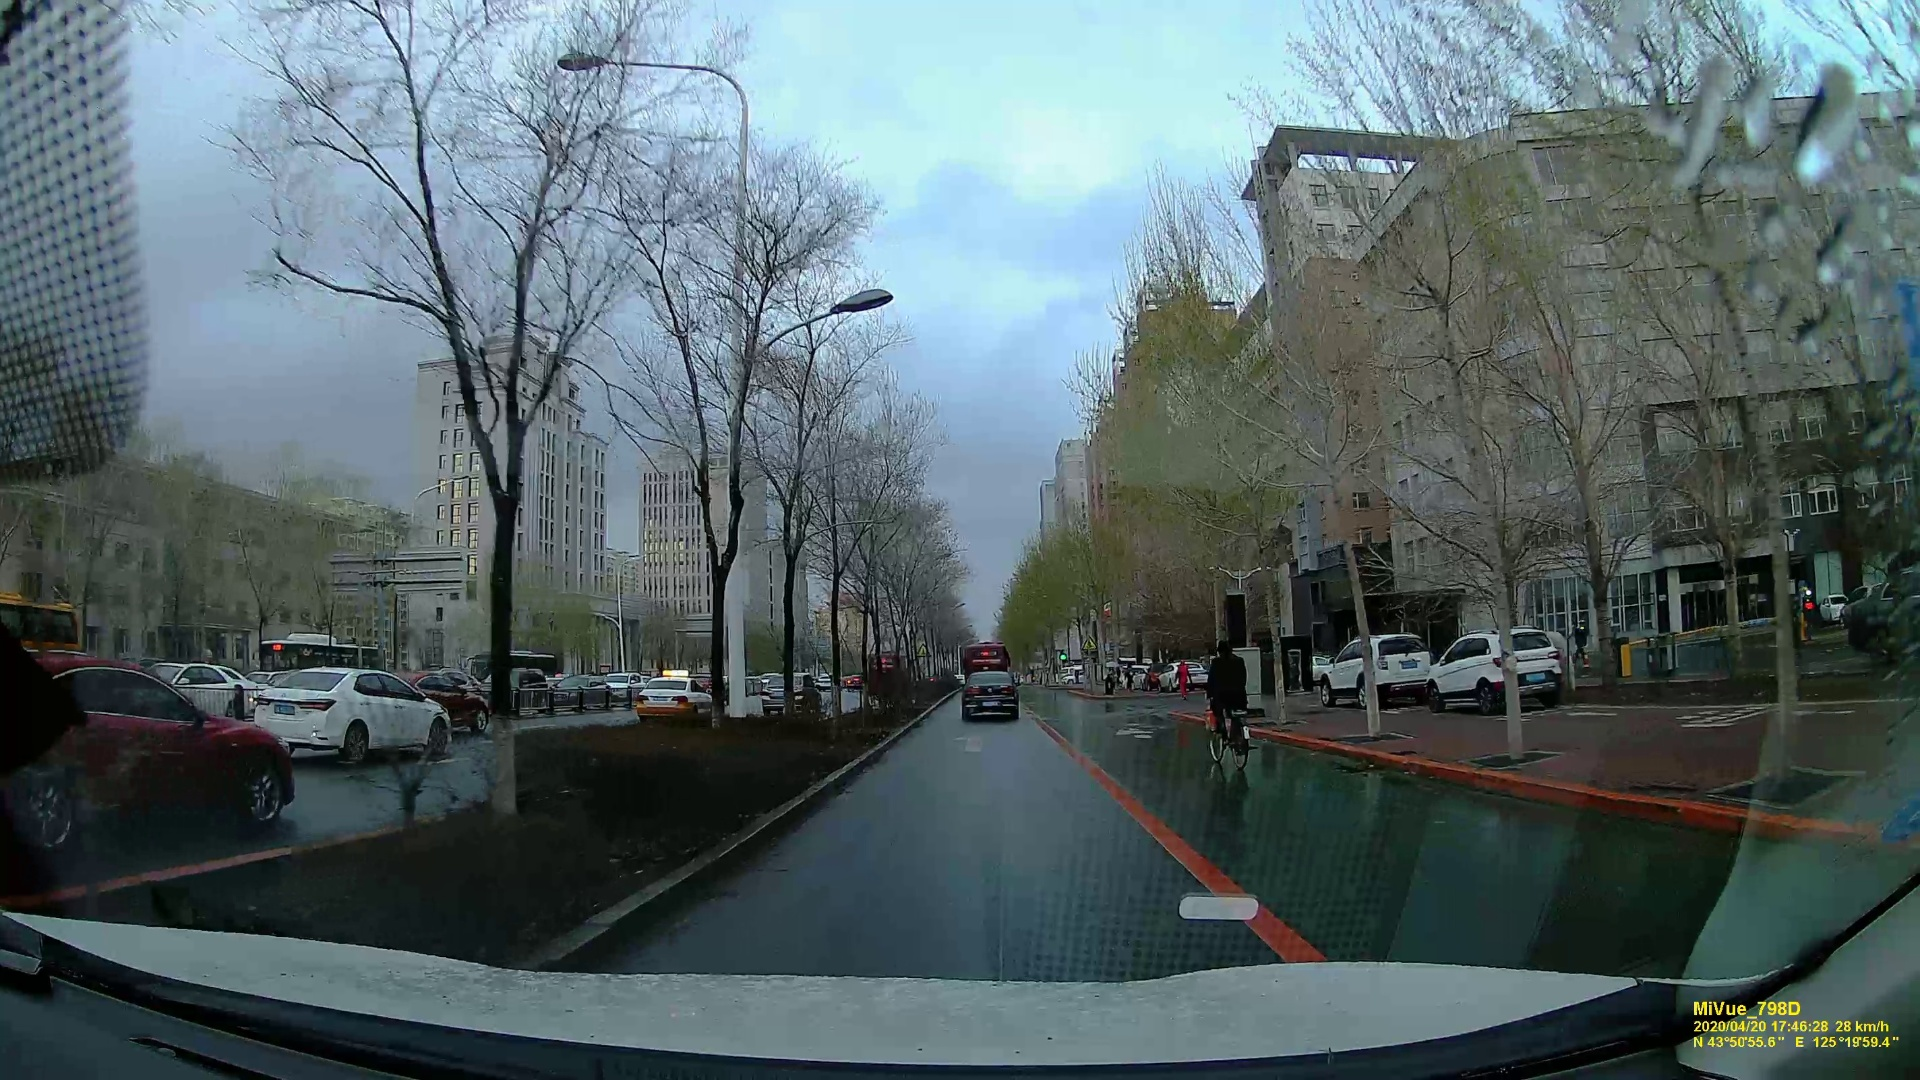bus: (960, 645, 1018, 713)
person: (1209, 648, 1249, 780)
vehicle: (6, 658, 288, 864), (242, 665, 453, 762), (1433, 628, 1568, 711), (1324, 632, 1434, 708), (635, 671, 712, 717), (960, 672, 1019, 717)
